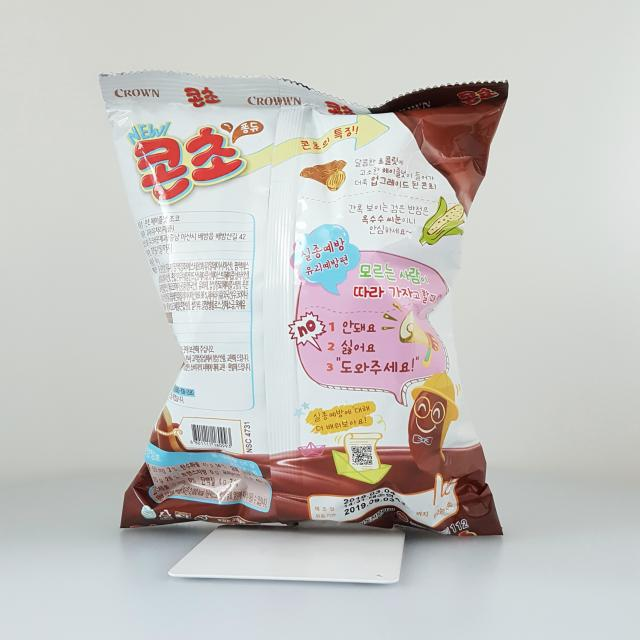-66G: (99, 69, 509, 537)
